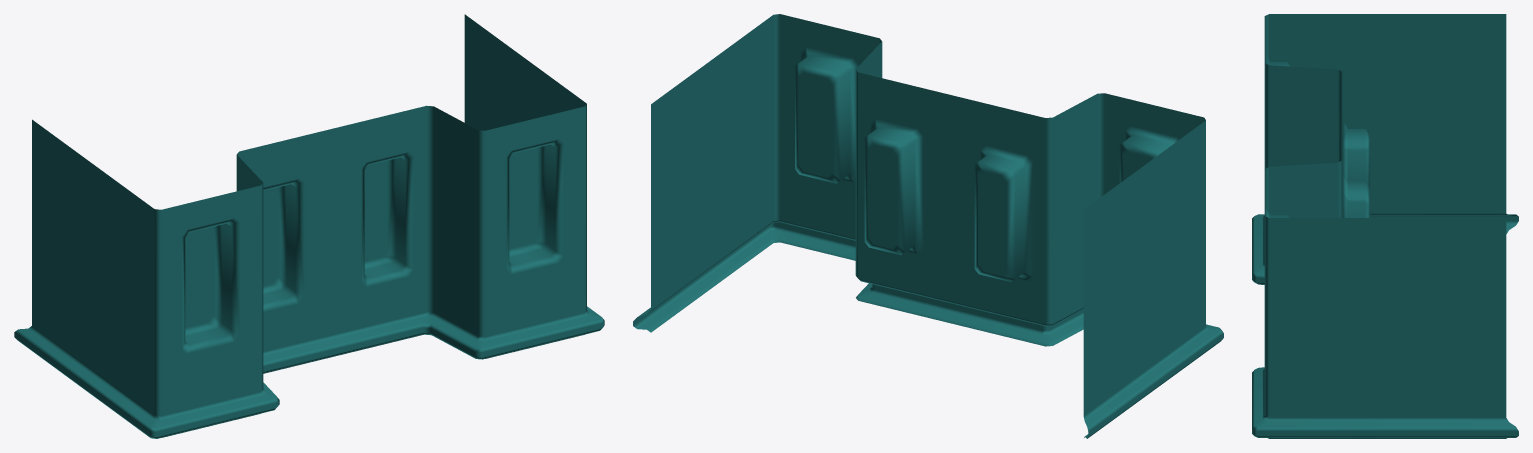
The model's file is SM_Building_Middle_04.fbx.
3 views of the same model, side by side, from view 1: azimuth 30°, elevation 25°; view 2: azimuth 150°, elevation 25°; view 3: azimuth 270°, elevation 25° (orthographic). The views are drawn at different scales.
Parts seen in each view (by area): view 1: Object003; view 2: Object003; view 3: Object003.
Part boxes in pixels (left/top/right/bottom): Object003: left=14, top=14, right=604, bottom=438; Object003: left=633, top=14, right=1223, bottom=438; Object003: left=1252, top=14, right=1518, bottom=438.
Size of the model in its own units: 631 by 303 by 331.
